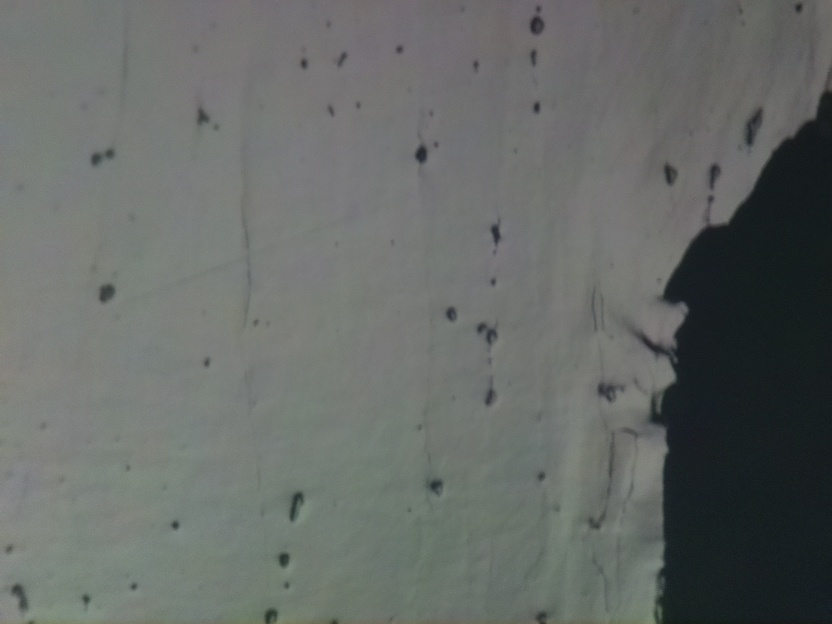crack: (658, 68, 832, 624)
